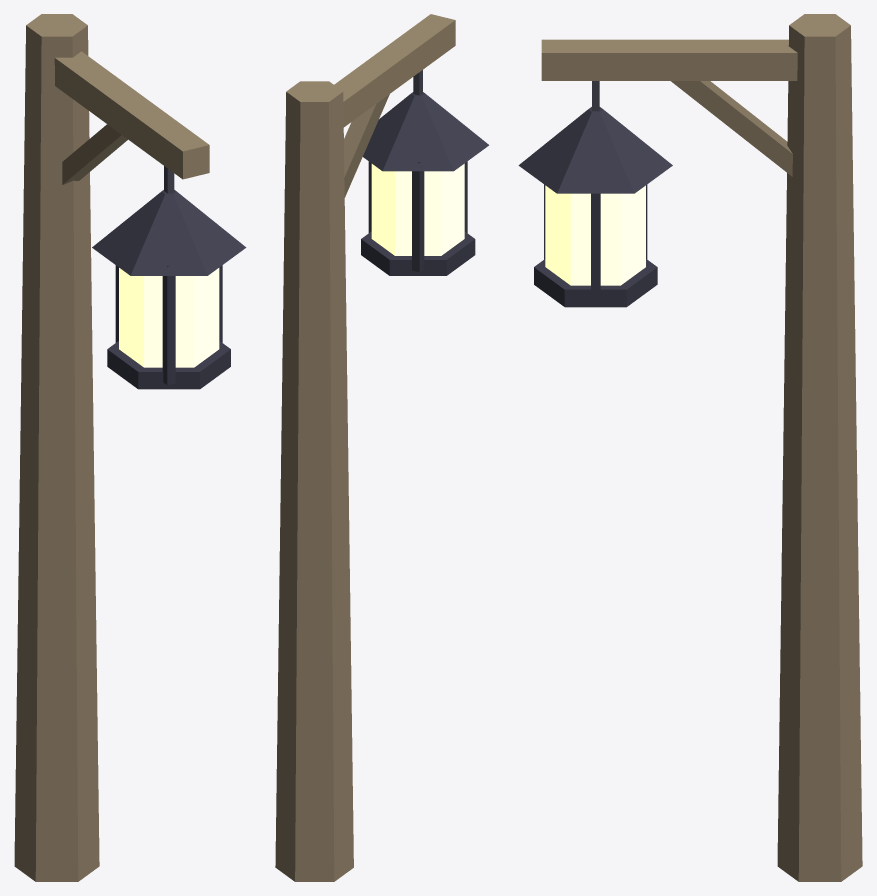
File: lantern_post.glb
3 renders of one model, left to right at view 1: azimuth 30°, elevation 25°; view 2: azimuth 150°, elevation 25°; view 3: azimuth 270°, elevation 25°, orthographic. The views are drawn at different scales.
Visible parts, largest first — view 1: driftwood_d20, ink_l15, kindle_glow, driftwood_d30; view 2: driftwood_d20, ink_l15, kindle_glow, driftwood_d30; view 3: driftwood_d20, ink_l15, kindle_glow, driftwood_d30.
Boxes of the visible parts, left/top/right/bottom form: driftwood_d20: left=14, top=14, right=209, bottom=881; ink_l15: left=92, top=190, right=246, bottom=389; kindle_glow: left=119, top=268, right=219, bottom=367; driftwood_d30: left=62, top=124, right=127, bottom=184; driftwood_d20: left=275, top=14, right=455, bottom=881; ink_l15: left=361, top=92, right=488, bottom=275; kindle_glow: left=371, top=163, right=464, bottom=255; driftwood_d30: left=344, top=94, right=389, bottom=197; driftwood_d20: left=541, top=14, right=862, bottom=881; ink_l15: left=518, top=107, right=672, bottom=307; kindle_glow: left=545, top=185, right=645, bottom=285; driftwood_d30: left=671, top=81, right=792, bottom=176.
Size of the model in its own units: 0.3464 by 2.4 by 0.89.
